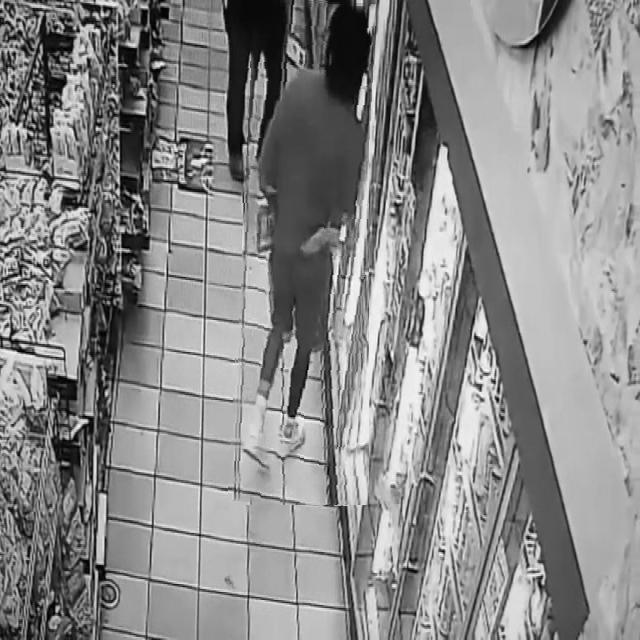Normal: (233, 0, 369, 505)
